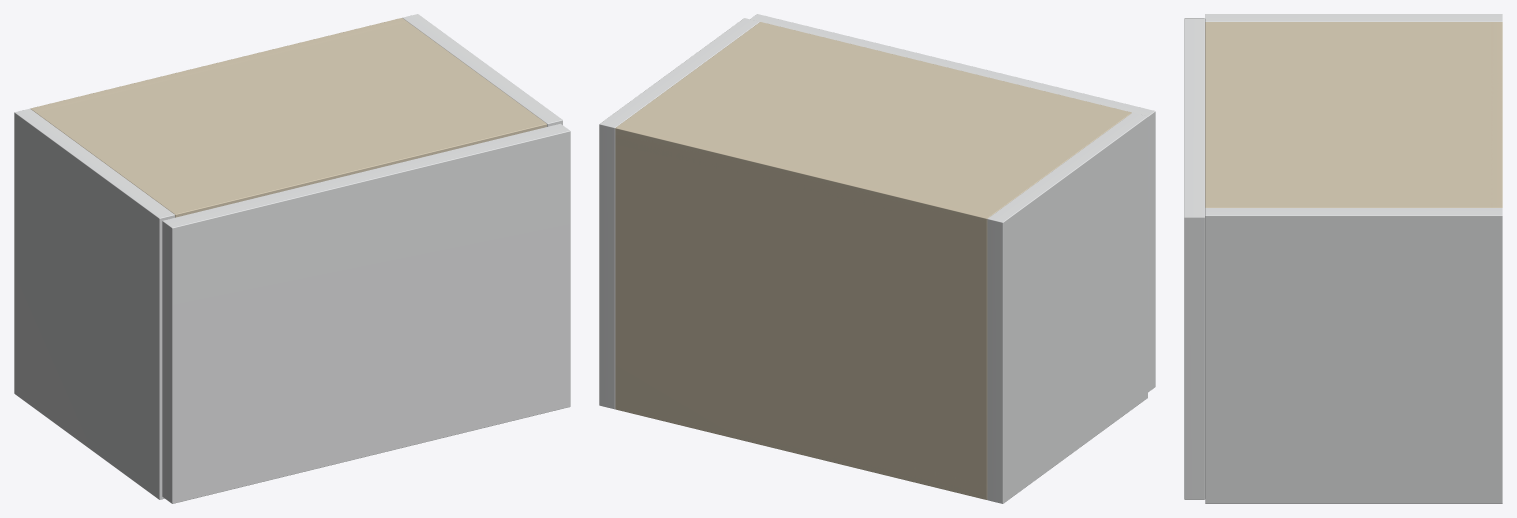
File: oppein-ply-pgw-w1812.glb
3 renders of one model, left to right at view 1: azimuth 30°, elevation 25°; view 2: azimuth 150°, elevation 25°; view 3: azimuth 270°, elevation 25°, orthographic. The views are drawn at different scales.
Visible parts, largest first — view 1: Door, Cabinet top, Cabinet side, Cabinet side.001, Cabinet back; view 2: Cabinet back, Cabinet top, Cabinet side, Cabinet side.001, Door, Cabinet bottom; view 3: Cabinet side.001, Cabinet top, Door, Cabinet side, Cabinet back.
Part boxes in pixels (x1=…): Door: x1=162, y1=123, x2=570, y2=503; Cabinet top: x1=36, y1=18, x2=546, y2=217; Cabinet side: x1=14, y1=108, x2=174, y2=499; Cabinet side.001: x1=402, y1=14, x2=562, y2=126; Cabinet back: x1=30, y1=18, x2=407, y2=112; Cabinet back: x1=615, y1=123, x2=992, y2=499; Cabinet top: x1=615, y1=22, x2=1131, y2=230; Cabinet side: x1=987, y1=112, x2=1147, y2=503; Cabinet side.001: x1=599, y1=18, x2=759, y2=409; Door: x1=750, y1=14, x2=1155, y2=392; Cabinet bottom: x1=615, y1=404, x2=987, y2=499; Cabinet side.001: x1=1205, y1=208, x2=1502, y2=503; Cabinet top: x1=1205, y1=22, x2=1501, y2=207; Door: x1=1184, y1=18, x2=1205, y2=499; Cabinet side: x1=1205, y1=14, x2=1502, y2=21; Cabinet back: x1=1490, y1=22, x2=1502, y2=207.
Size of the model in its own units: 0.4572 by 0.3048 by 0.3048.
